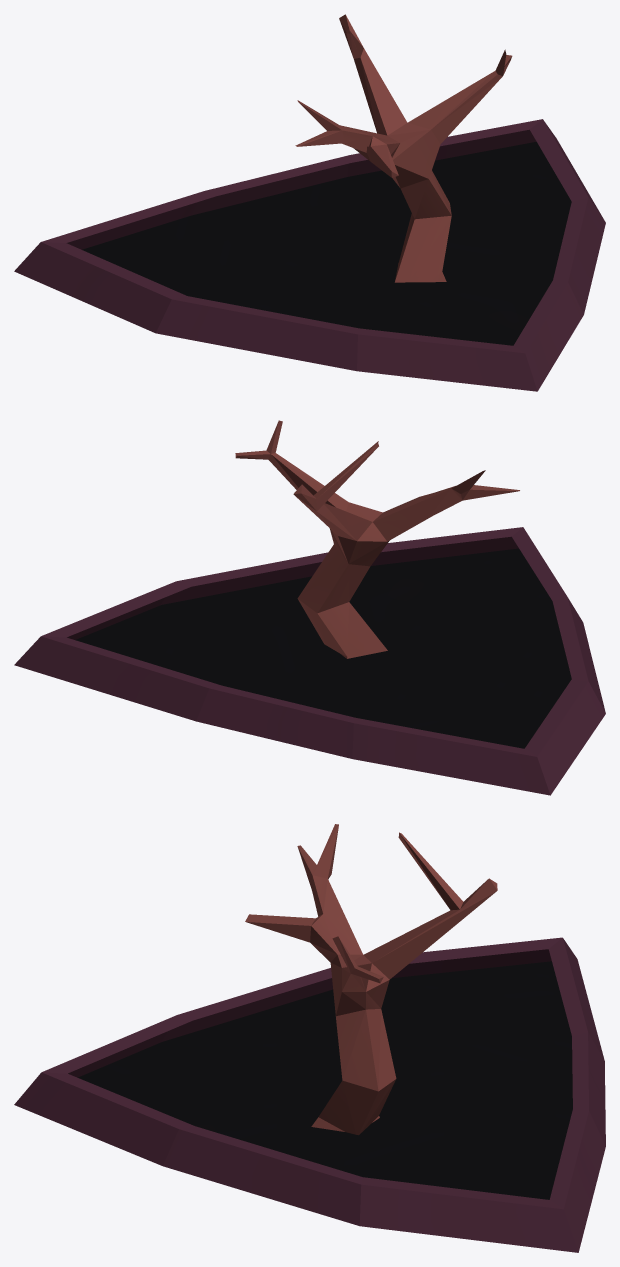
Rendered from cmd_tree_winter.glb.
3 renders of one model, top to bottom at view 1: azimuth 30°, elevation 25°; view 2: azimuth 150°, elevation 25°; view 3: azimuth 270°, elevation 25°, orthographic. The views are drawn at different scales.
Parts seen in each view (by area): view 1: garagegat, Icosphere.017; view 2: garagegat, Icosphere.017; view 3: garagegat, Icosphere.017.
Part boxes in pixels (x1,y1,x2,y2): garagegat: (14, 119, 605, 391); Icosphere.017: (295, 14, 512, 282); garagegat: (14, 527, 605, 795); Icosphere.017: (235, 420, 519, 658); garagegat: (14, 937, 605, 1252); Icosphere.017: (245, 824, 497, 1135).
Size of the model in its own units: 16.7 by 8.11 by 14.22.
1 material, 1 textured.
